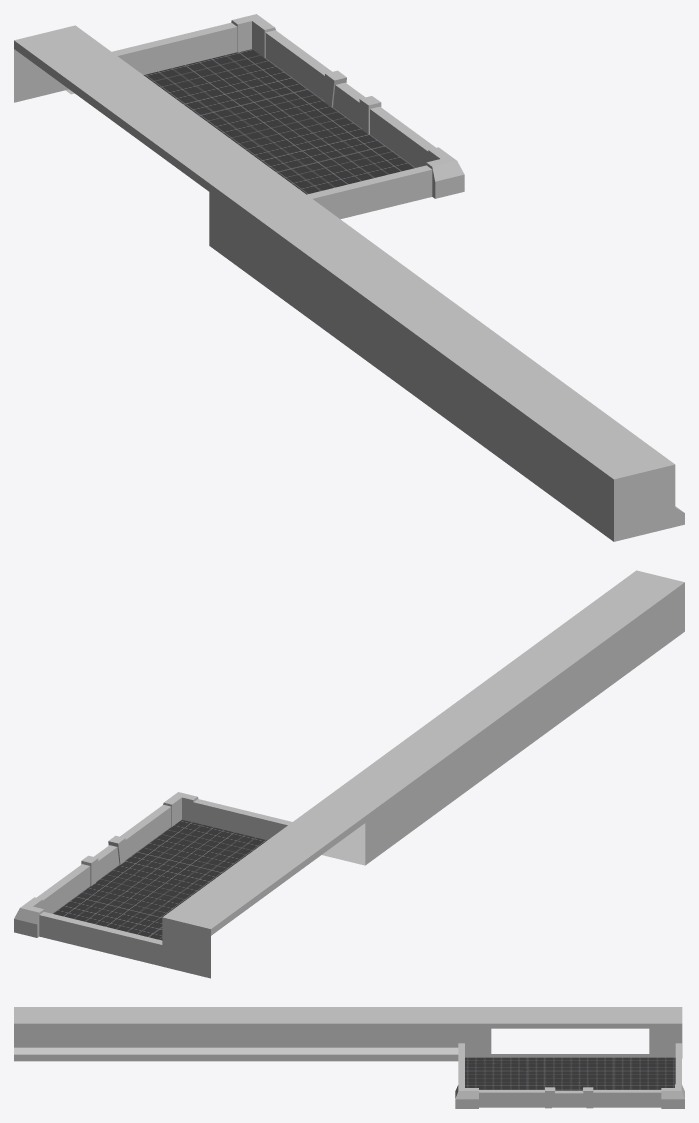
The model's file is Mapa.fbx.
3 views of the same model, one above another, from view 1: azimuth 30°, elevation 25°; view 2: azimuth 150°, elevation 25°; view 3: azimuth 270°, elevation 25° (orthographic). The views are drawn at different scales.
Parts seen in each view (by area): view 1: Plane, Plane.001; view 2: Plane, Plane.001; view 3: Plane, Plane.001.
Boxes of the visible parts, x1,y1,x2,y2 form: Plane: (14, 14, 684, 541); Plane.001: (143, 49, 415, 194); Plane: (14, 570, 684, 978); Plane.001: (52, 820, 266, 940); Plane: (14, 1007, 684, 1108); Plane.001: (465, 1057, 675, 1090).
Bounding box in the file's own units: 2456 × 594 × 10381.
